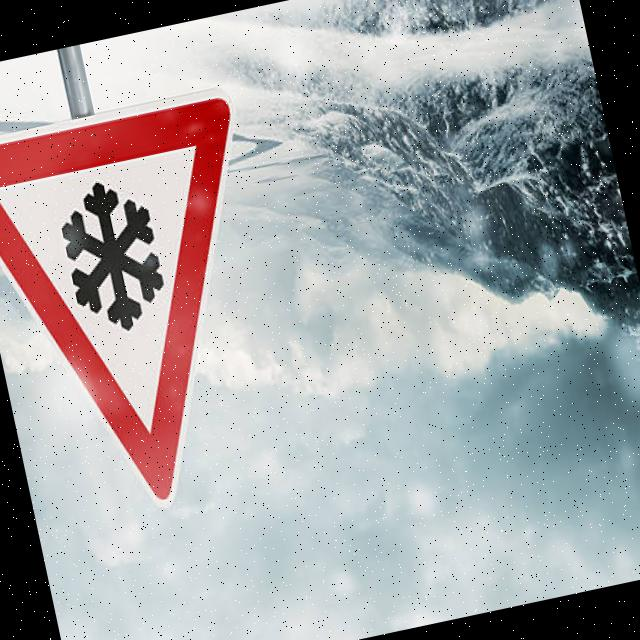snow_warning: (0, 69, 319, 548)
